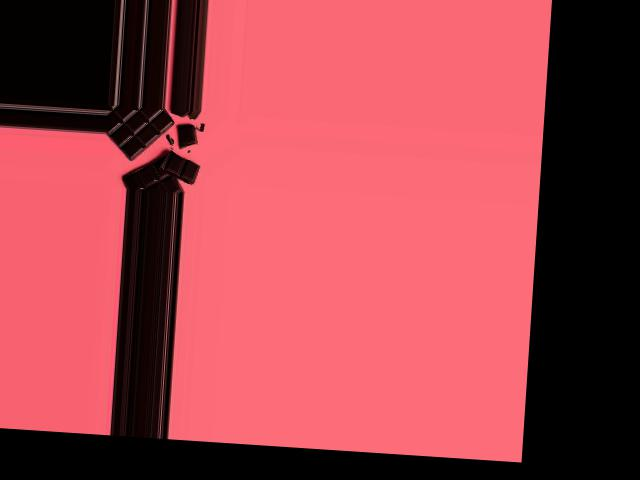chocolate: (101, 105, 197, 188)
